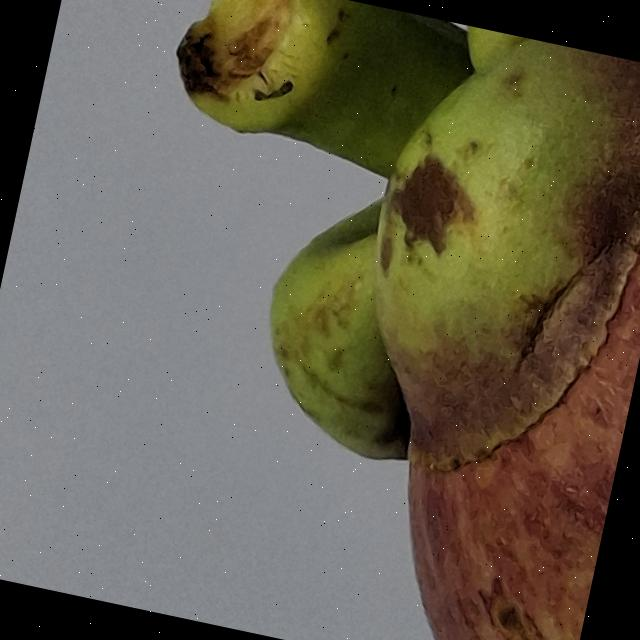mangosteen: (38, 0, 640, 640)
